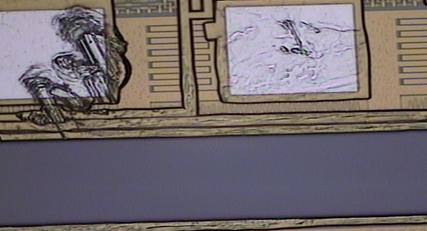SCRATCH: (16, 1, 427, 138)
